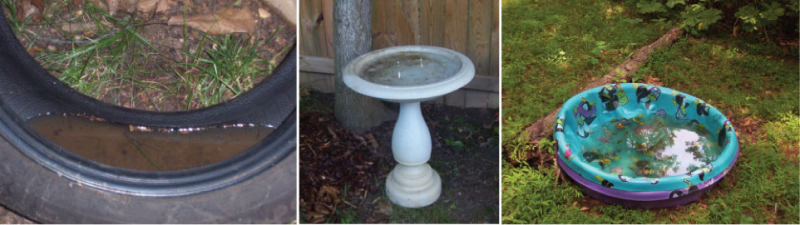bird bath: (327, 31, 490, 210)
container: (547, 74, 763, 206)
water: (20, 95, 290, 185), (576, 103, 731, 190), (347, 45, 478, 97)
